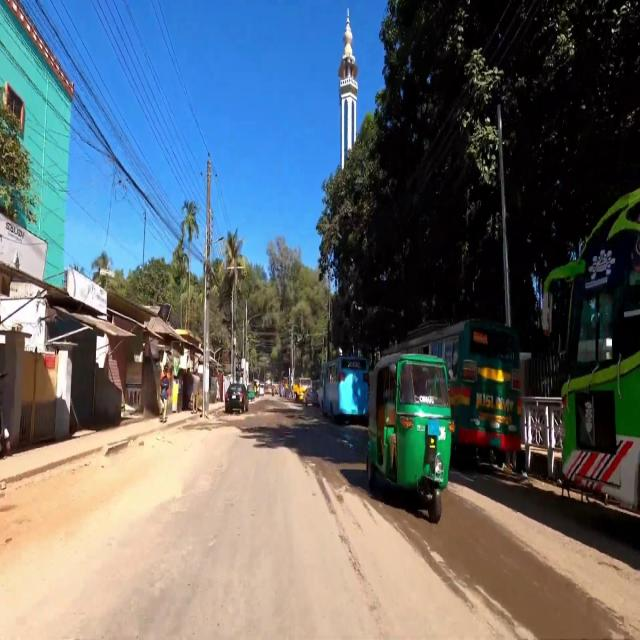black: (224, 382, 249, 416)
